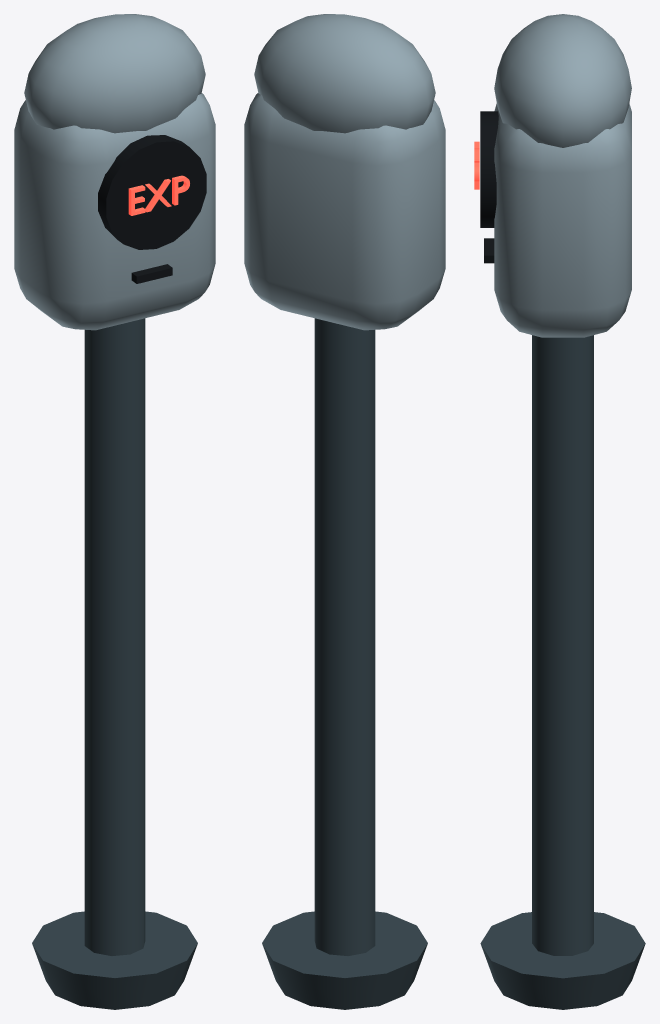
Rendered from parking_meter.glb.
3 views of the same model, side by side, from view 1: azimuth 30°, elevation 25°; view 2: azimuth 150°, elevation 25°; view 3: azimuth 270°, elevation 25° (orthographic).
Parts seen in each view (by area): view 1: Meter; view 2: Meter; view 3: Meter.
Boxes of the visible parts, x1,y1,x2,y2 form: Meter: [14, 14, 215, 1009]; Meter: [244, 14, 445, 1009]; Meter: [474, 14, 645, 1009].
Size of the model in its own units: 0.28 by 1.53 by 0.249.
